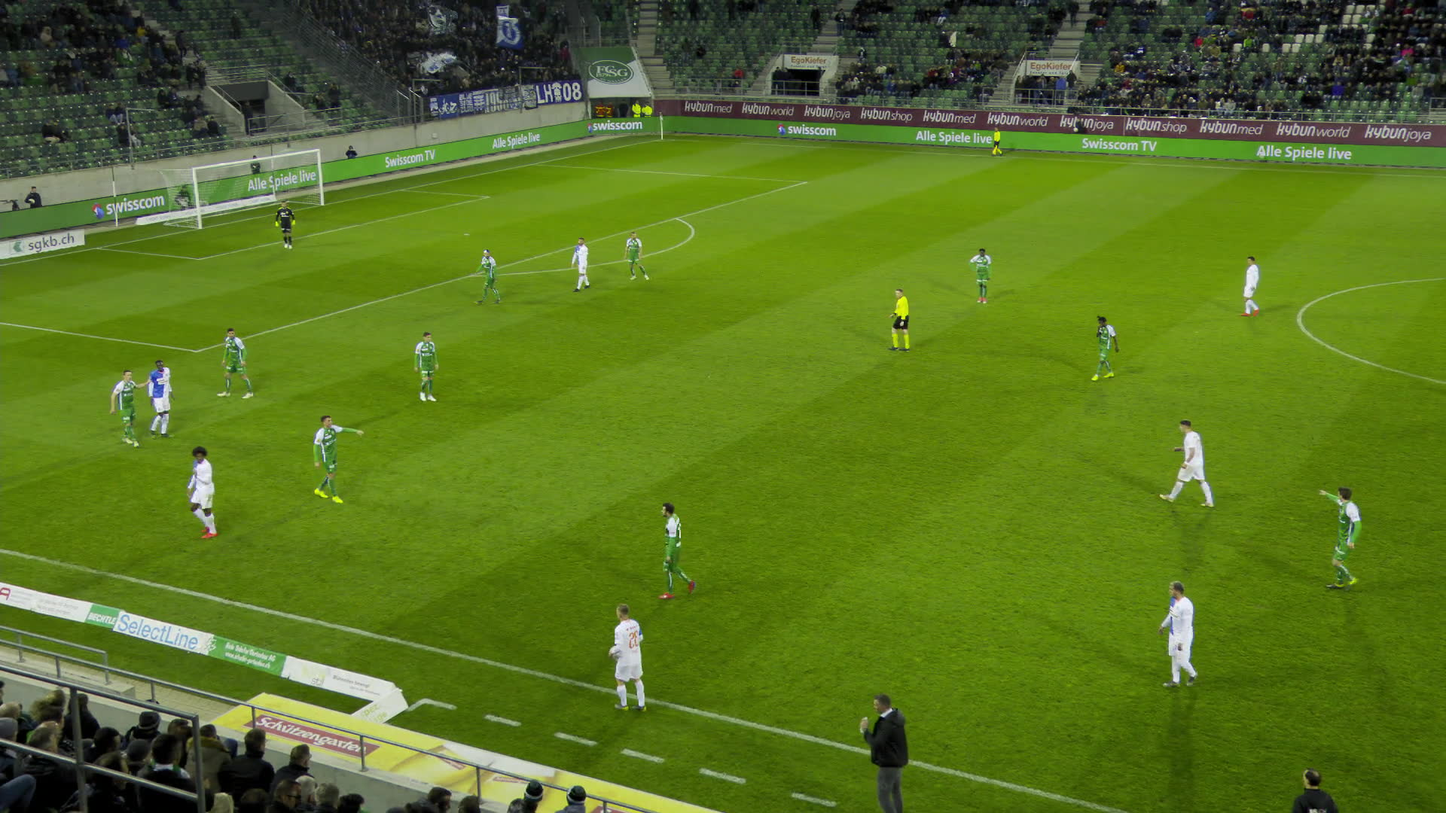ball: (608, 644, 618, 659)
player: (1158, 581, 1203, 691), (614, 604, 658, 714), (1319, 487, 1362, 592), (189, 446, 236, 538), (654, 501, 697, 599), (319, 415, 367, 502), (1172, 419, 1211, 509), (148, 361, 191, 439), (114, 368, 150, 444), (224, 326, 255, 397), (416, 332, 447, 403), (1090, 315, 1119, 381), (1238, 257, 1264, 318), (973, 248, 996, 303), (483, 247, 504, 303), (626, 231, 648, 281), (275, 199, 297, 249), (578, 236, 594, 289)
referee: (889, 289, 921, 352), (995, 126, 1005, 155)
